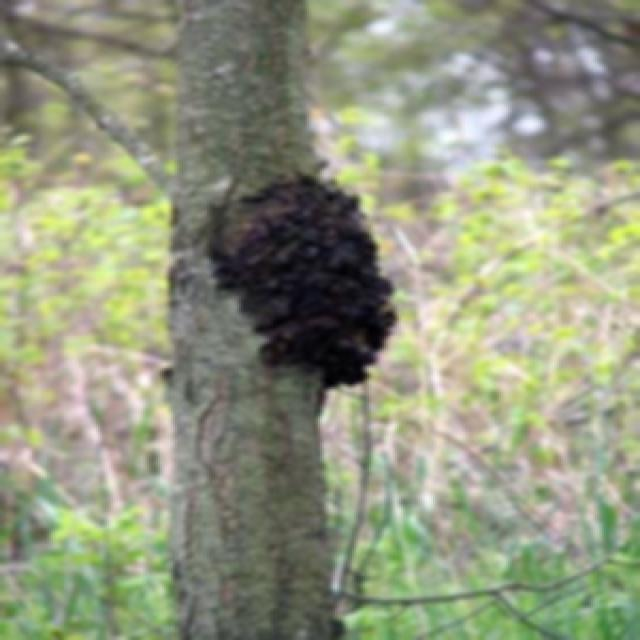Black_knot: (205, 170, 399, 390)
